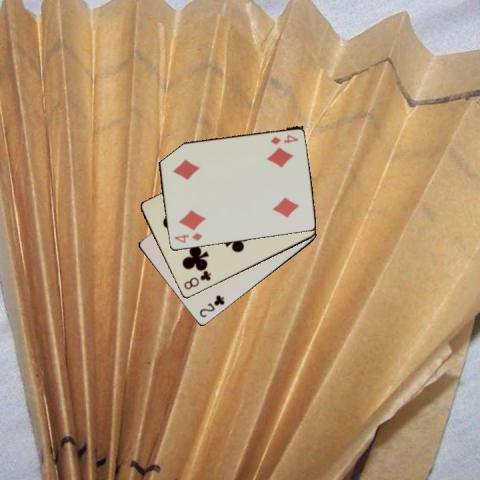2c: (196, 292, 226, 319)
4d: (171, 230, 203, 245), (268, 132, 300, 146)
8c: (181, 269, 212, 291)
